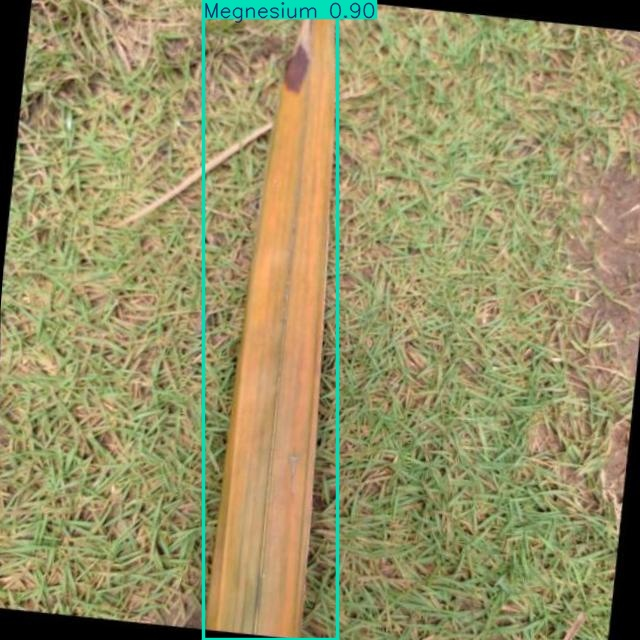Megnesium: (204, 0, 337, 640)
